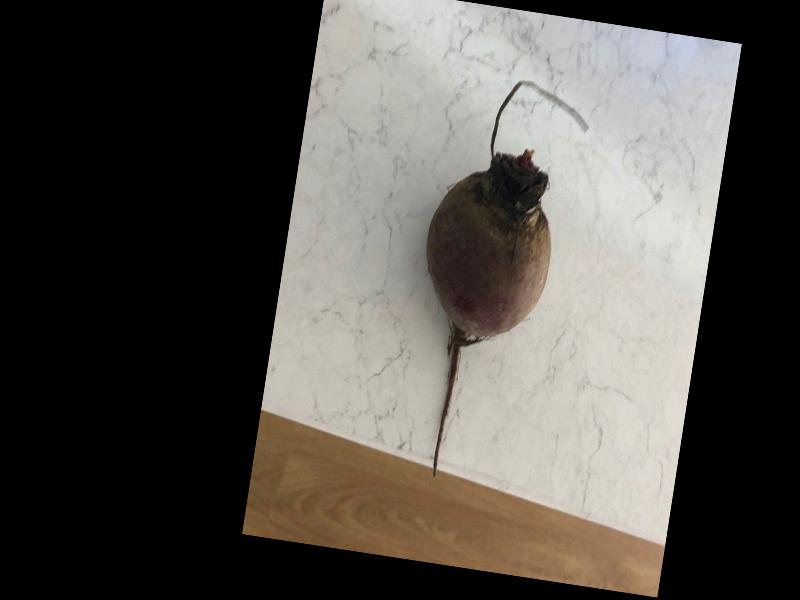Beet: (392, 71, 592, 492)
